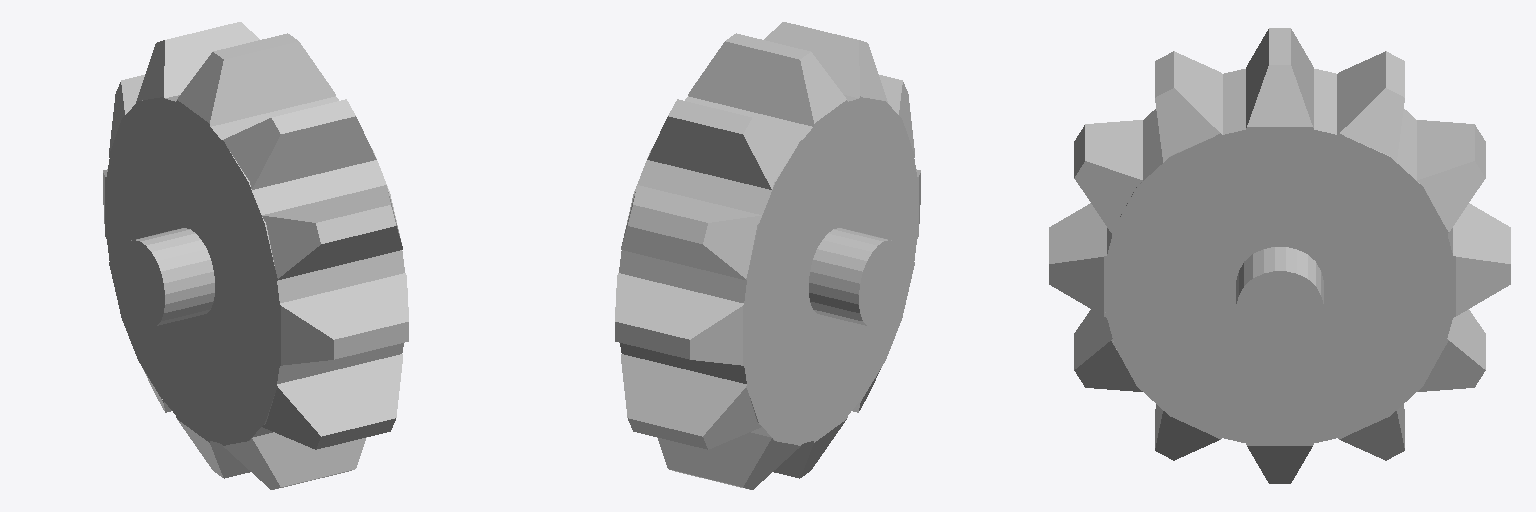
Rendered from SmallCog.obj.
3 renders of one model, left to right at view 1: azimuth 30°, elevation 25°; view 2: azimuth 150°, elevation 25°; view 3: azimuth 270°, elevation 25°, orthographic.
Visible parts, largest first — view 1: entity1_brush6, entity1_brush27, entity1_brush3, entity1_brush30, entity1_brush37, entity1_brush35, entity1_brush34, entity1_brush22, entity1_brush7, entity1_brush31, entity1_brush36, entity1_brush23 (+2 smaller); view 2: entity1_brush6, entity1_brush3, entity1_brush11, entity1_brush7, entity1_brush5, entity1_brush37, entity1_brush9, entity1_brush14, entity1_brush34, entity1_brush10, entity1_brush23, entity1_brush35 (+2 smaller); view 3: entity1_brush6, entity1_brush37, entity1_brush3, entity1_brush34, entity1_brush35, entity1_brush11, entity1_brush30, entity1_brush5, entity1_brush7, entity1_brush27, entity1_brush9, entity1_brush23 (+5 smaller).
Part boxes in pixels (left/top/right/bottom): entity1_brush6: left=105, top=95, right=404, bottom=444; entity1_brush27: left=276, top=354, right=402, bottom=449; entity1_brush3: left=177, top=33, right=334, bottom=123; entity1_brush30: left=281, top=275, right=408, bottom=365; entity1_brush37: left=121, top=228, right=214, bottom=326; entity1_brush35: left=262, top=185, right=400, bottom=268; entity1_brush34: left=222, top=99, right=370, bottom=174; entity1_brush22: left=237, top=432, right=366, bottom=489; entity1_brush7: left=136, top=22, right=259, bottom=102; entity1_brush31: left=227, top=147, right=374, bottom=186; entity1_brush36: left=276, top=230, right=402, bottom=280; entity1_brush23: left=177, top=419, right=250, bottom=478; entity1_brush6: left=619, top=95, right=918, bottom=444; entity1_brush3: left=689, top=33, right=846, bottom=123; entity1_brush11: left=615, top=275, right=742, bottom=365; entity1_brush7: left=647, top=99, right=786, bottom=189; entity1_brush5: left=621, top=190, right=747, bottom=279; entity1_brush37: left=809, top=228, right=902, bottom=326; entity1_brush9: left=623, top=375, right=761, bottom=449; entity1_brush14: left=657, top=437, right=801, bottom=489; entity1_brush34: left=764, top=22, right=882, bottom=98; entity1_brush10: left=621, top=354, right=747, bottom=413; entity1_brush23: left=773, top=419, right=846, bottom=478; entity1_brush35: left=879, top=75, right=912, bottom=135; entity1_brush6: left=1104, top=69, right=1455, bottom=445; entity1_brush37: left=1236, top=247, right=1323, bottom=350; entity1_brush3: left=1247, top=28, right=1312, bottom=126; entity1_brush34: left=1155, top=51, right=1222, bottom=144; entity1_brush35: left=1074, top=120, right=1142, bottom=215; entity1_brush11: left=1456, top=203, right=1510, bottom=315; entity1_brush30: left=1049, top=203, right=1103, bottom=315; entity1_brush5: left=1432, top=121, right=1485, bottom=234; entity1_brush7: left=1353, top=51, right=1404, bottom=162; entity1_brush27: left=1074, top=309, right=1127, bottom=390; entity1_brush9: left=1418, top=309, right=1485, bottom=391; entity1_brush23: left=1247, top=446, right=1312, bottom=483.
Bounding box in the file's own units: 9 × 15.96 × 15.96.